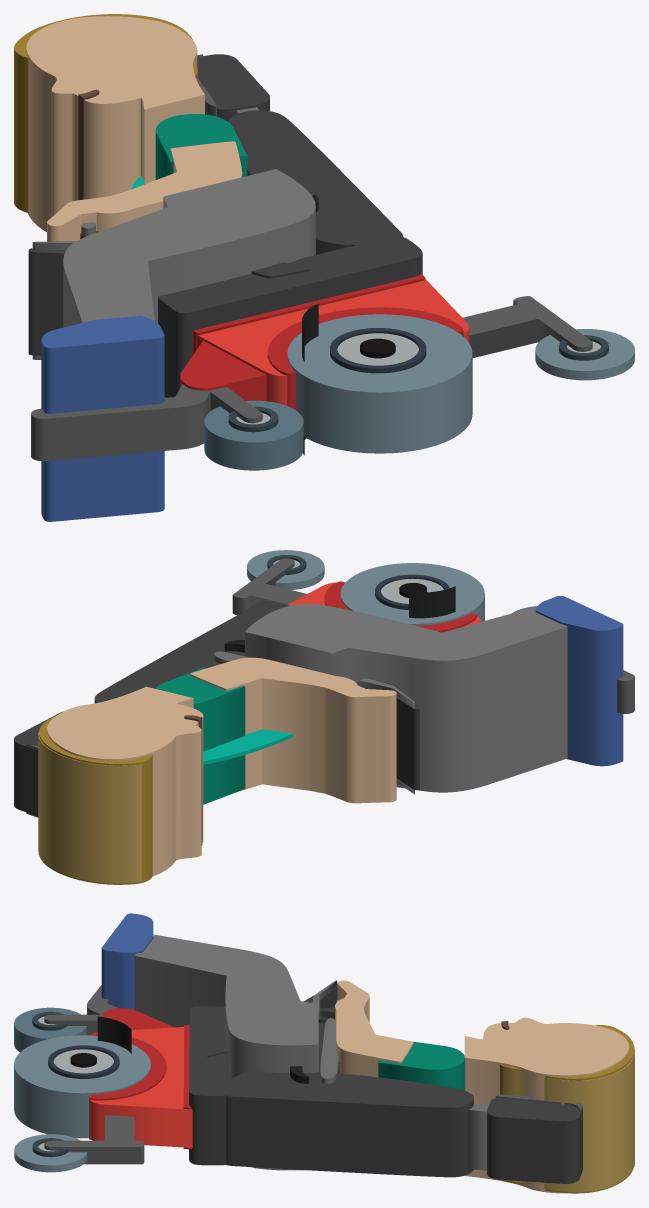
Rendered from emoji_u1f468_1f3fc_200d_1f9bc.glb.
The picture shows the model from 3 angles, top to bottom: view 1: azimuth 30°, elevation 25°; view 2: azimuth 150°, elevation 25°; view 3: azimuth 270°, elevation 25°; orthographic projection. The views are drawn at different scales.
Parts seen in each view (by area): view 1: emoji_u1f468_1f3fc_200d_1f9bc; view 2: emoji_u1f468_1f3fc_200d_1f9bc; view 3: emoji_u1f468_1f3fc_200d_1f9bc.
Boxes of the visible parts, bbox=[...] form: emoji_u1f468_1f3fc_200d_1f9bc: bbox=[14, 14, 634, 521]; emoji_u1f468_1f3fc_200d_1f9bc: bbox=[14, 550, 634, 884]; emoji_u1f468_1f3fc_200d_1f9bc: bbox=[14, 913, 634, 1193].
Bounding box in the file's own units: 0.0242 × 0.0074 × 0.0324.
